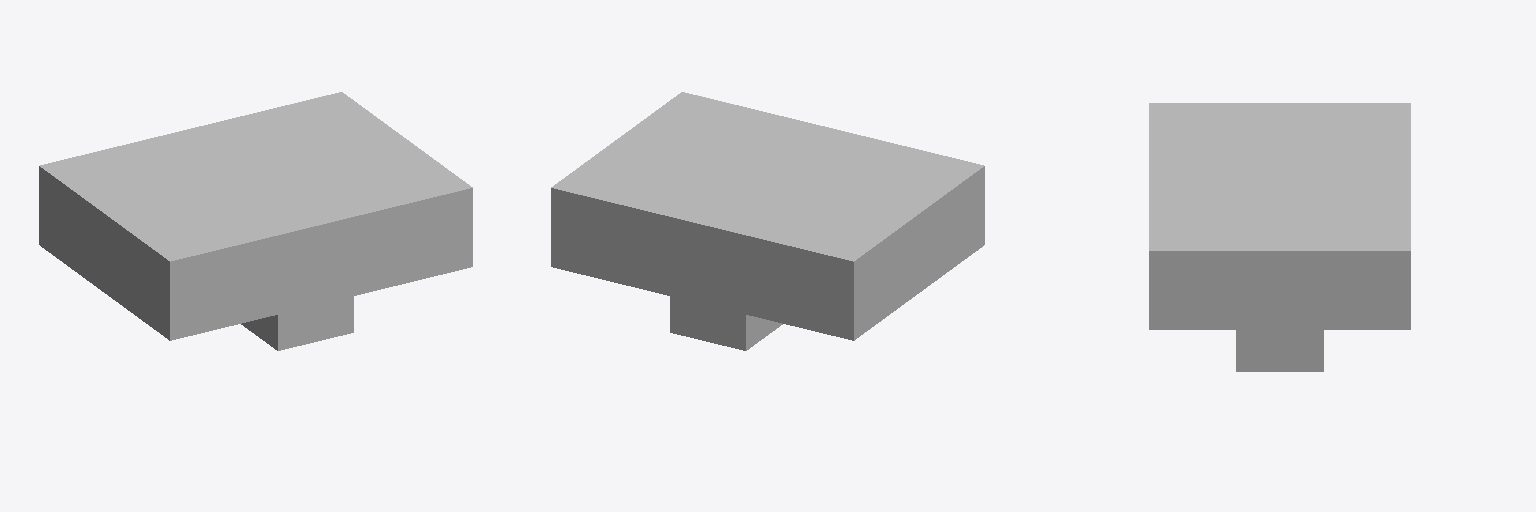
File: prefabRoad2.obj
The picture shows the model from 3 angles: view 1: azimuth 30°, elevation 25°; view 2: azimuth 150°, elevation 25°; view 3: azimuth 270°, elevation 25°; orthographic projection.
Parts seen in each view (by area): view 1: Cube; view 2: Cube; view 3: Cube.
Part boxes in pixels (x1,y1,x2,y2): Cube: (39, 92, 472, 350); Cube: (551, 92, 984, 350); Cube: (1149, 103, 1410, 371).
Size of the model in its own units: 8 by 4 by 6.